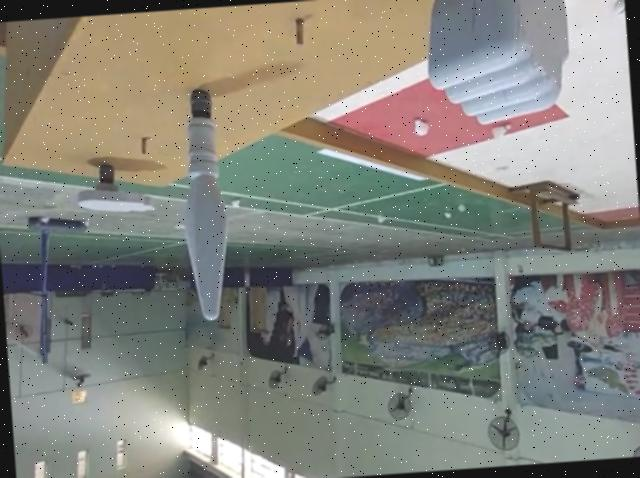Fist: (417, 0, 580, 134)
Hand: (71, 157, 151, 217)
Sph: (170, 81, 241, 322)
